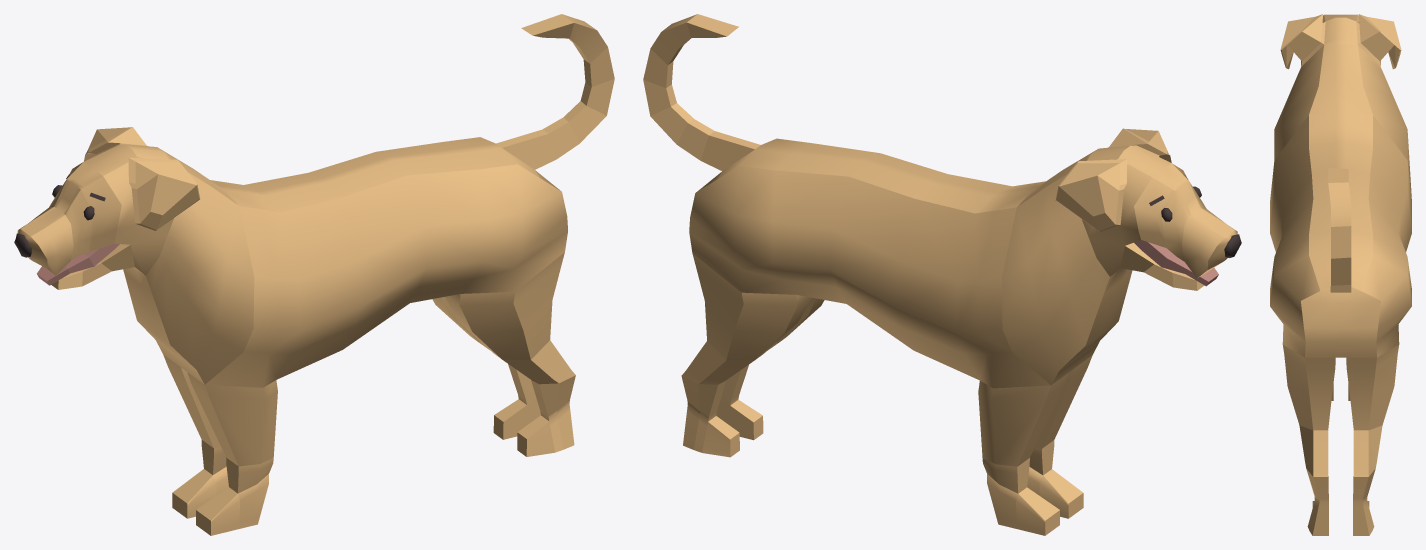
Rendered from main_dog.fbx.
The picture shows the model from 3 angles, left to right: view 1: azimuth 30°, elevation 25°; view 2: azimuth 150°, elevation 25°; view 3: azimuth 270°, elevation 25°; orthographic projection. The views are drawn at different scales.
Parts seen in each view (by area): view 1: polySurface1, pCube7; view 2: polySurface1, pCube7; view 3: polySurface1.
Boxes of the visible parts, left/top/right/bottom form: polySurface1: left=17, top=14, right=614, bottom=535; pCube7: left=37, top=243, right=119, bottom=285; polySurface1: left=643, top=14, right=1237, bottom=535; pCube7: left=1134, top=240, right=1218, bottom=286; polySurface1: left=1270, top=14, right=1411, bottom=535.
Bounding box in the file's own units: 8.09 × 5.41 × 1.95.
